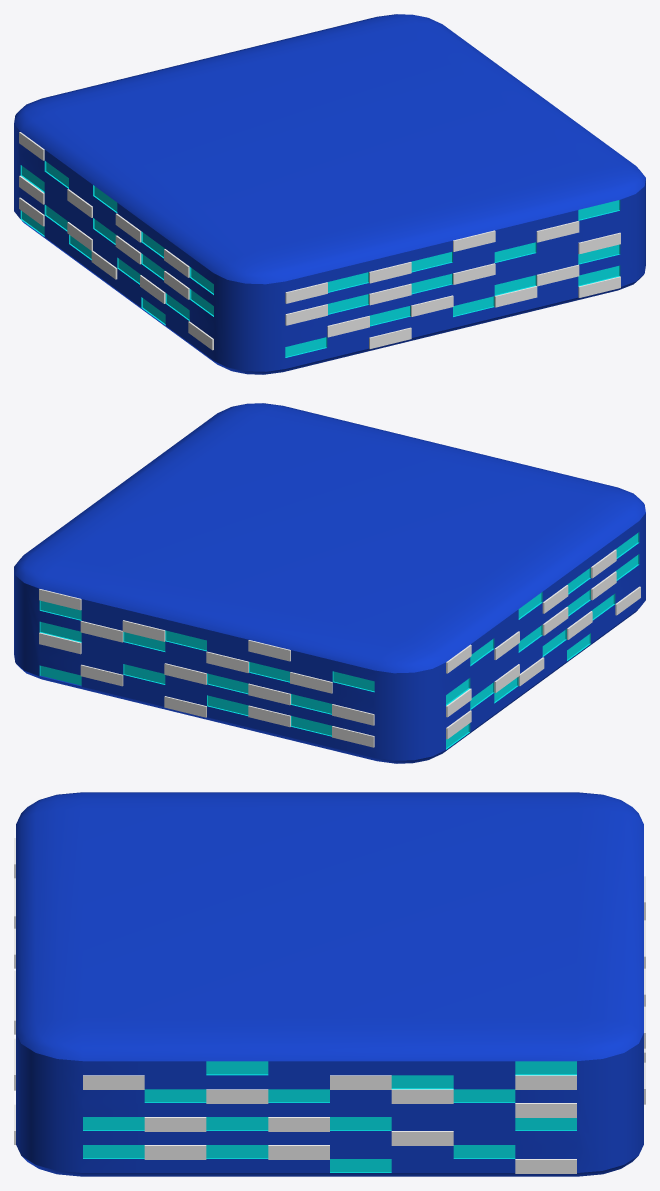
Rendered from Room.fbx.
The picture shows the model from 3 angles, top to bottom: view 1: azimuth 30°, elevation 25°; view 2: azimuth 150°, elevation 25°; view 3: azimuth 270°, elevation 25°; orthographic projection. The views are drawn at different scales.
Parts seen in each view (by area): view 1: Cube.003; view 2: Cube.003; view 3: Cube.003.
Boxes of the visible parts, box(x1,y1,x2,y2) form: Cube.003: box(14, 14, 645, 374); Cube.003: box(14, 403, 645, 763); Cube.003: box(14, 792, 645, 1176).
Bounding box in the file's own units: 1612 × 400 × 1611.
